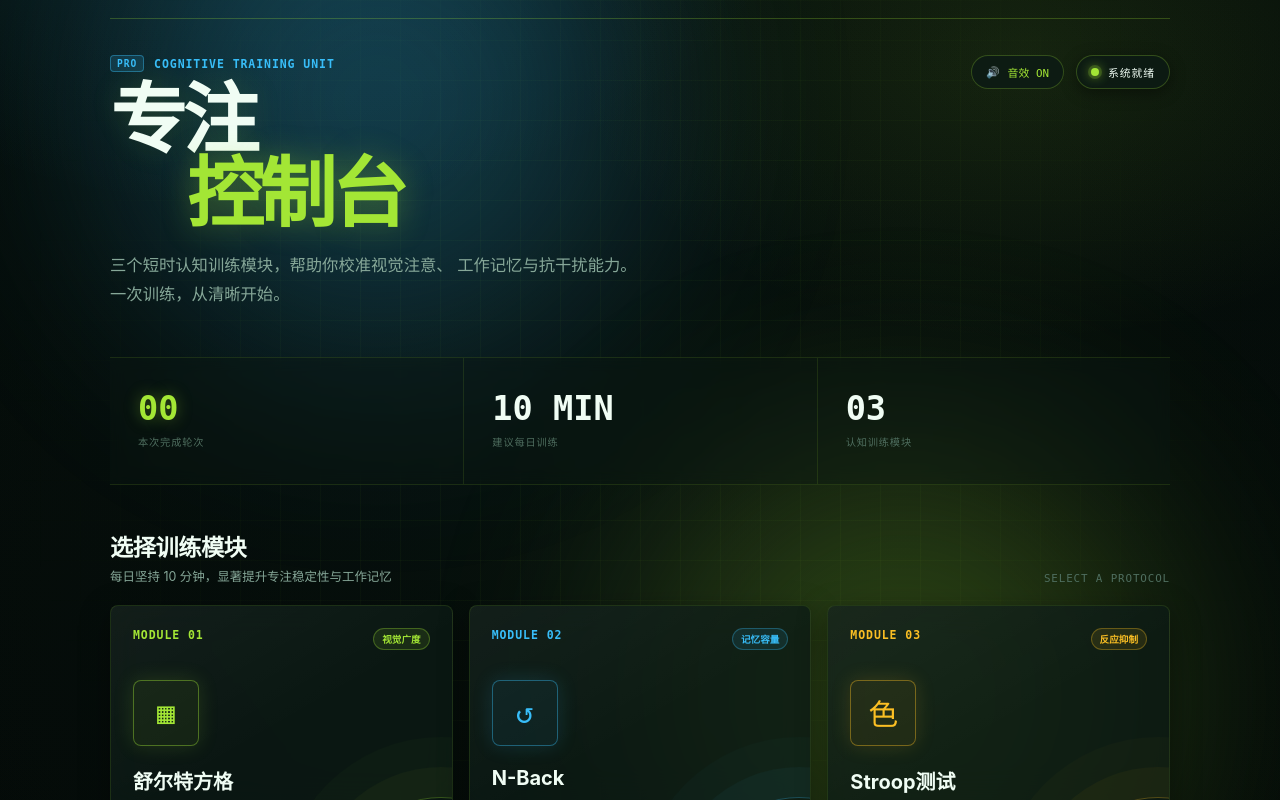
Scenario: AttentionTrainer accessibility and interactions › toggles sound effects on and off
What coordinates should you click on to do the following:
click the button with class "sound-toggle-btn"
I would click on:
 (1018, 72)
Its box is [971,55,1064,89].
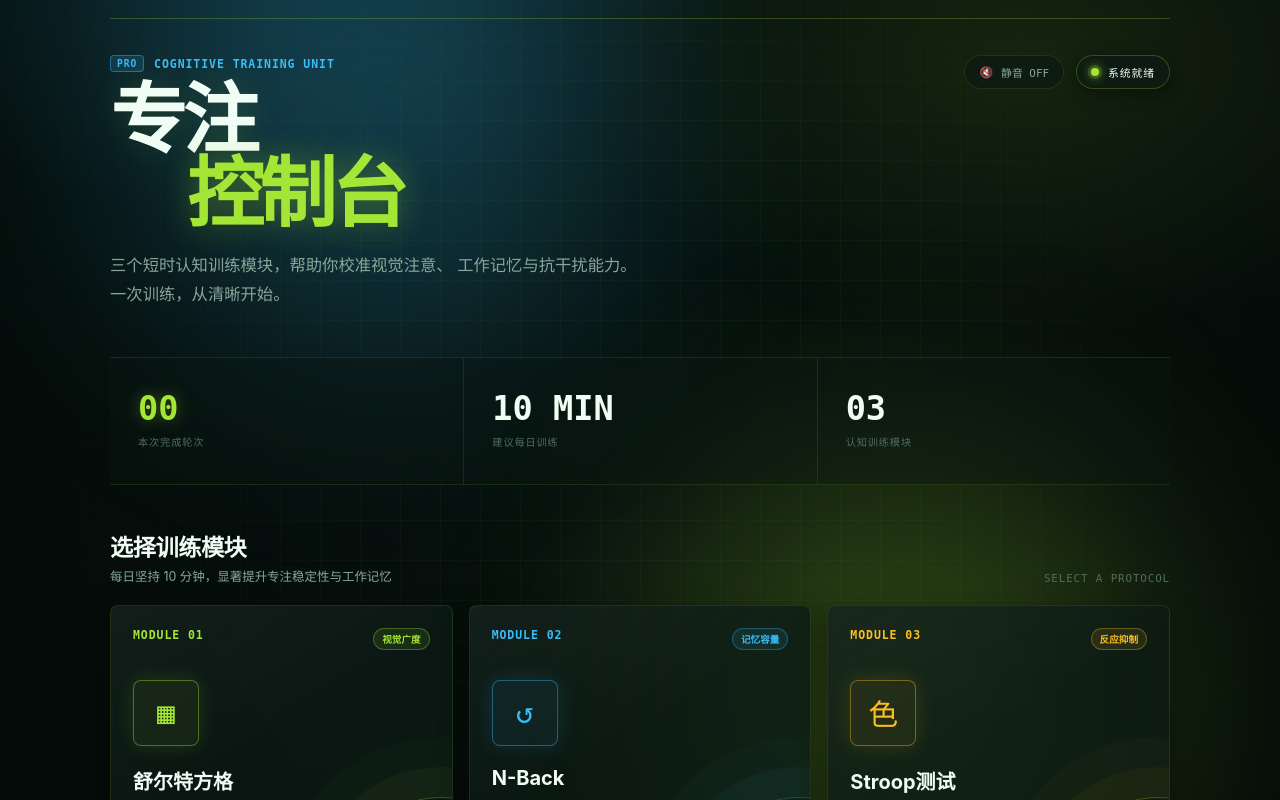
expect the button with class "sound-toggle-btn" shows "静音 OFF": met
What coordinates should you click on to do the following:
click the button with class "sound-toggle-btn"
I would click on:
 (1014, 72)
Its box is [964,55,1064,89].
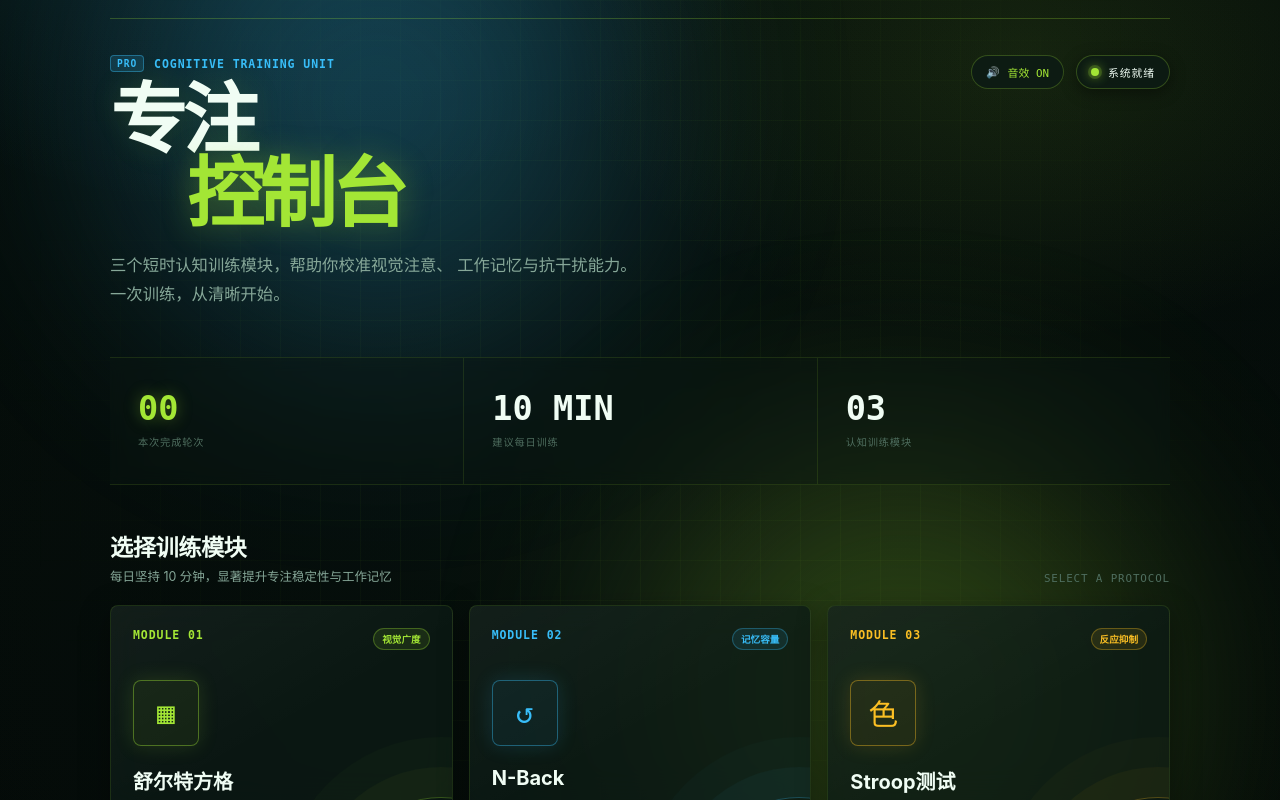
expect the button with class "sound-toggle-btn" shows "音效 ON": met, box [971,55,1064,89]
